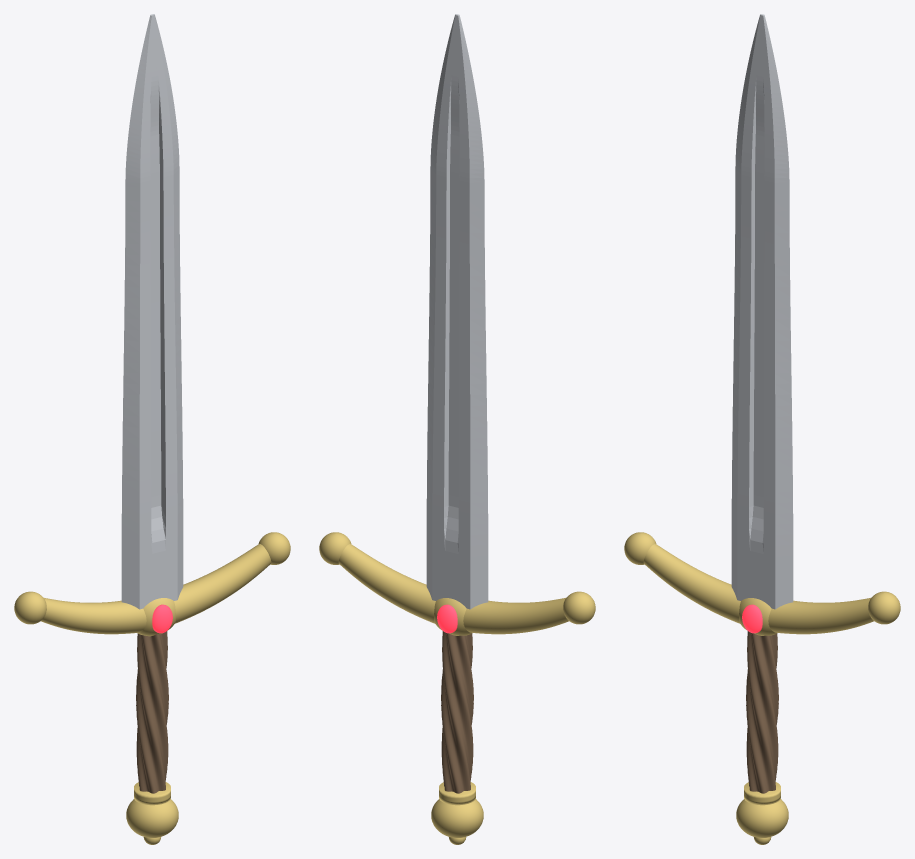
The model's file is sword.glb.
3 views of the same model, side by side, from view 1: azimuth 30°, elevation 25°; view 2: azimuth 150°, elevation 25°; view 3: azimuth 330°, elevation 25° (orthographic).
Parts seen in each view (by area): view 1: Blade, Guard, Grip, Pommel; view 2: Blade, Guard, Grip, Pommel; view 3: Blade, Guard, Grip, Pommel.
Part boxes in pixels (x1,y1,x2,y2): Blade: (121, 14, 183, 609); Guard: (14, 532, 290, 636); Grip: (136, 631, 168, 793); Pommel: (126, 782, 178, 844); Blade: (426, 14, 488, 609); Guard: (319, 532, 595, 635); Grip: (441, 631, 473, 793); Pommel: (431, 782, 483, 844); Blade: (731, 14, 793, 609); Guard: (624, 532, 900, 635); Grip: (746, 631, 778, 793); Pommel: (736, 782, 788, 844).
Size of the model in its own units: 1.43 by 4.17 by 0.24.
